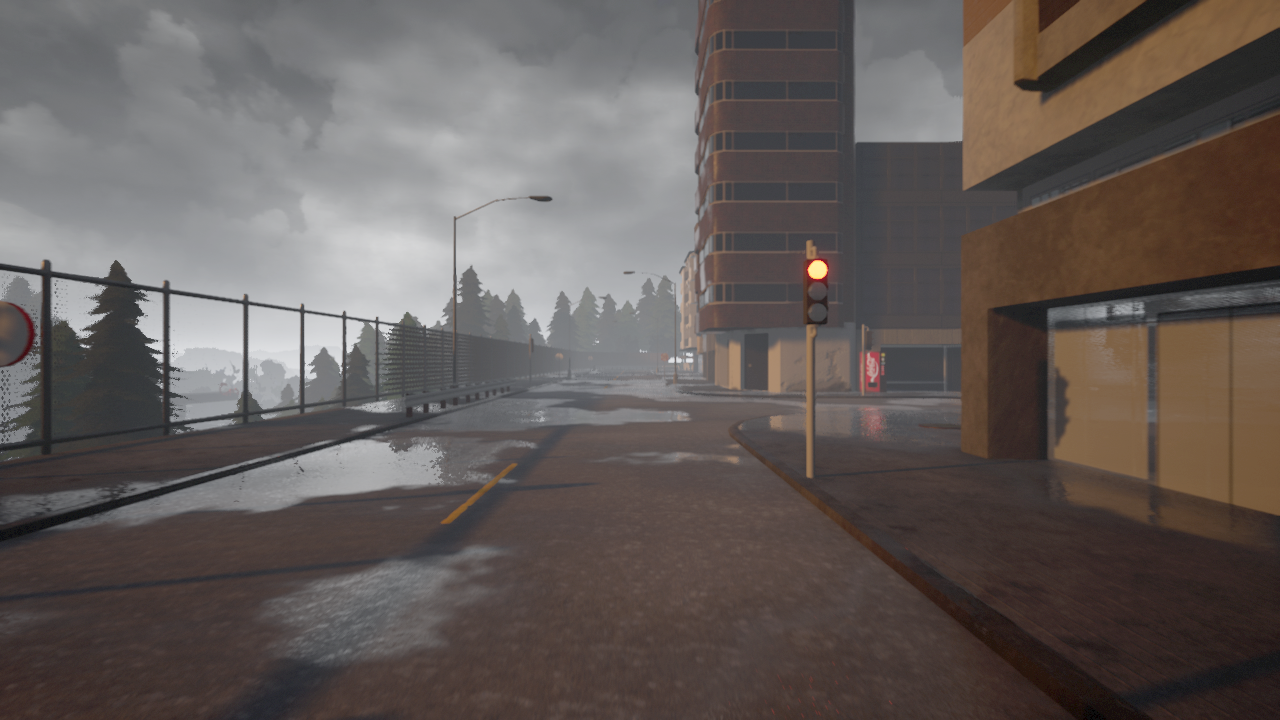red: (804, 255, 828, 328)
